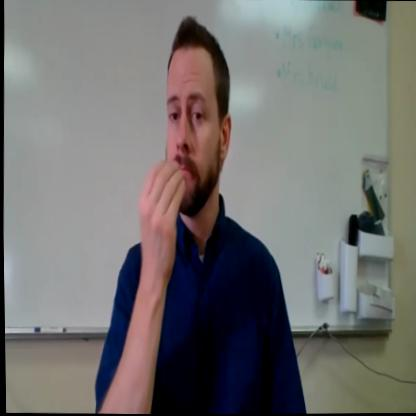Food: (130, 0, 250, 289)
